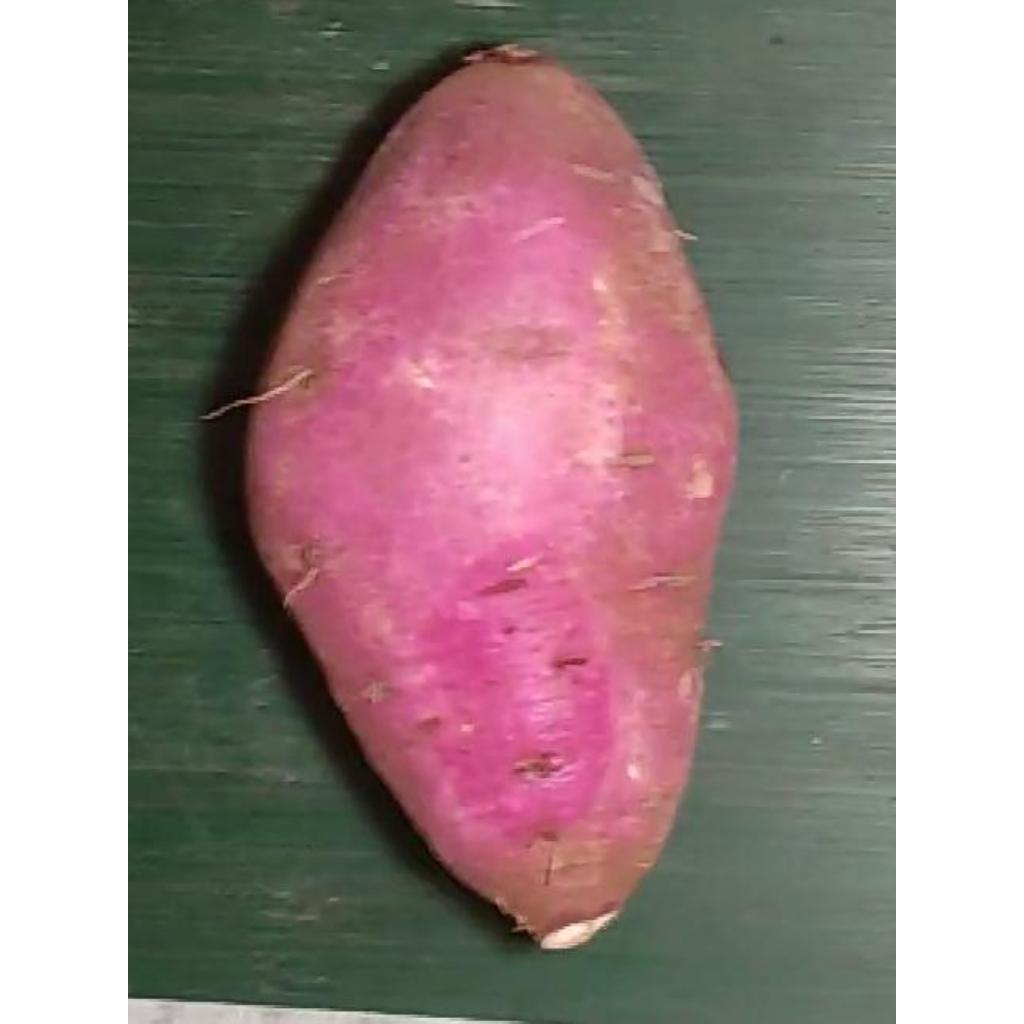Sweet Potato: (245, 46, 741, 953)
